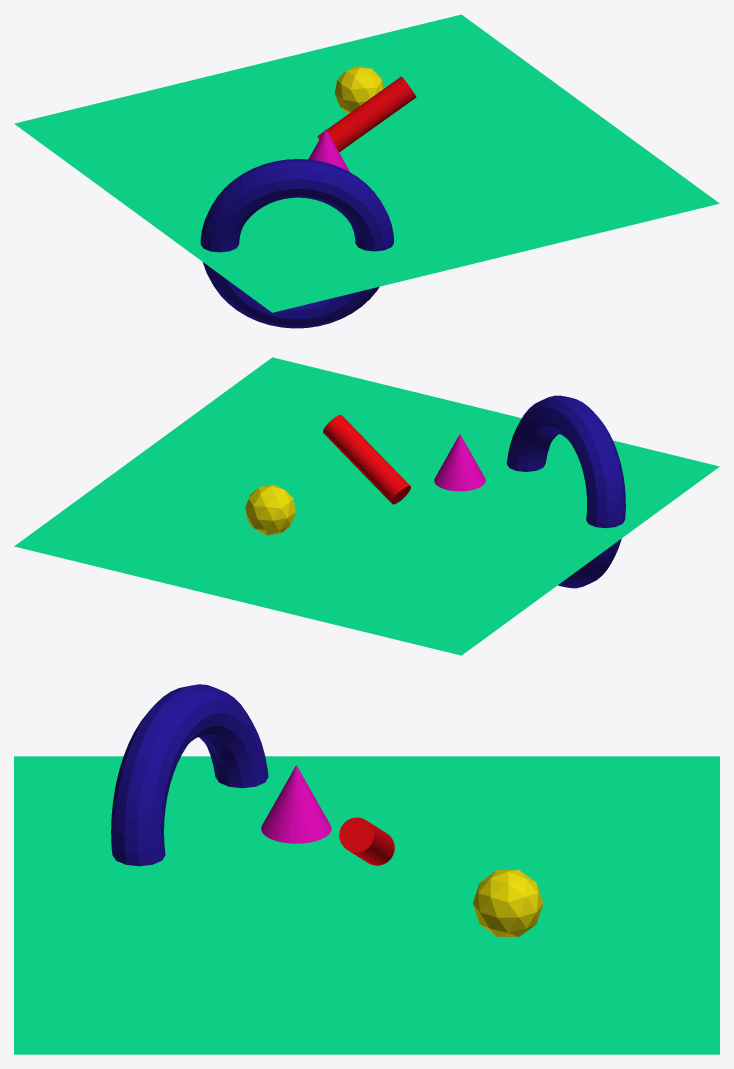
The model's file is map.glb.
3 views of the same model, one above another, from view 1: azimuth 30°, elevation 25°; view 2: azimuth 150°, elevation 25°; view 3: azimuth 270°, elevation 25° (orthographic). The views are drawn at different scales.
Parts seen in each view (by area): view 1: Plane, Torus, Cylinder, Icosphere, Cone; view 2: Plane, Torus, Cylinder, Icosphere, Cone; view 3: Plane, Torus, Icosphere, Cone, Cylinder.
Boxes of the visible parts, x1,y1,x2,y2 form: Plane: (14,14,719,312); Torus: (200,159,393,328); Cylinder: (317,76,416,152); Icosphere: (335,66,384,114); Cone: (308,129,349,171); Plane: (14,357,719,655); Torus: (506,395,625,588); Cylinder: (323,414,410,504); Icosphere: (245,484,295,535); Cone: (434,434,485,491); Plane: (14,756,719,1054); Torus: (111,684,268,866); Icosphere: (473,870,543,936); Cone: (261,765,331,843); Cylinder: (339,817,394,865).
Size of the model in its own units: 2 by 0.7433 by 2.
